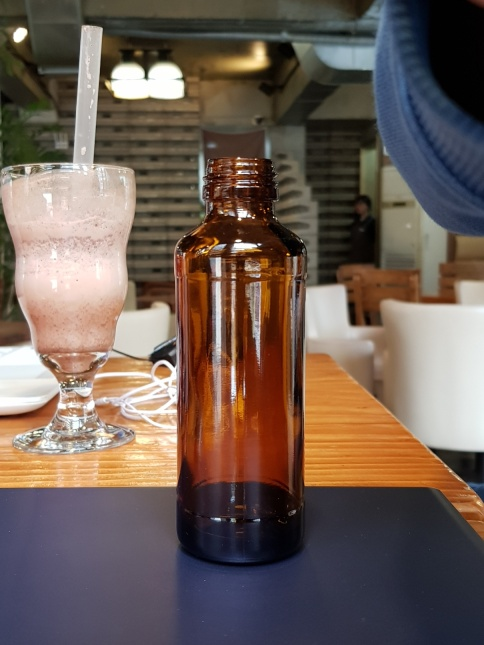Glass: (170, 154, 312, 565)
